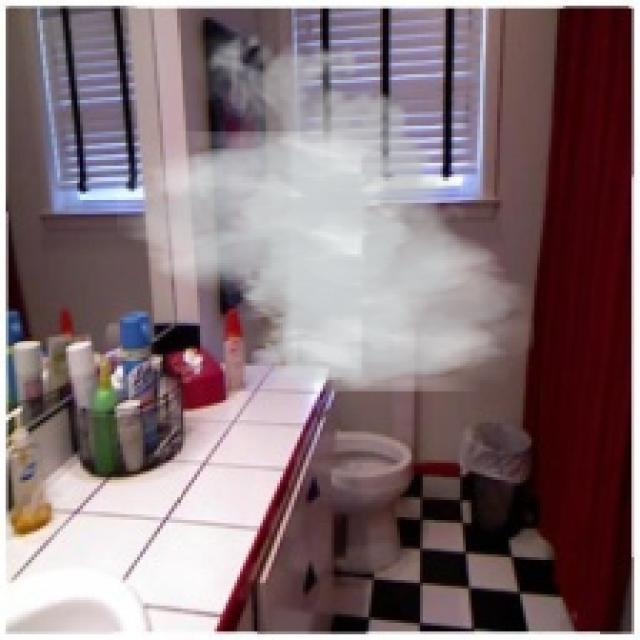smoke: (117, 23, 534, 391)
